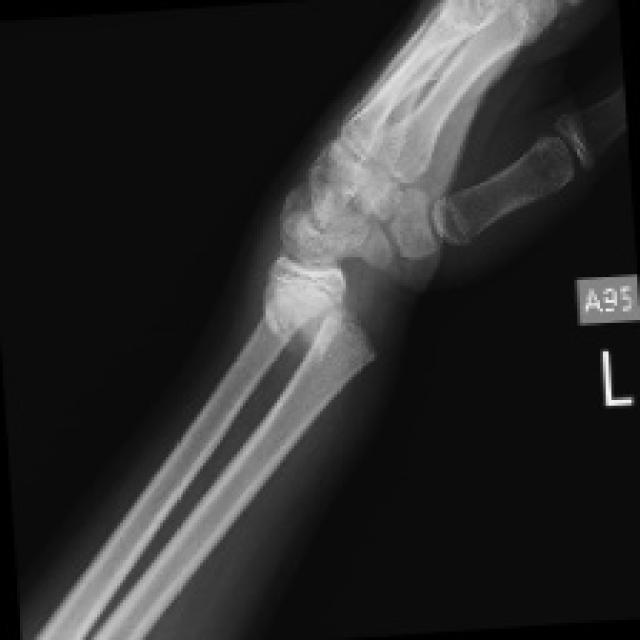fracture: (316, 222, 480, 401)
